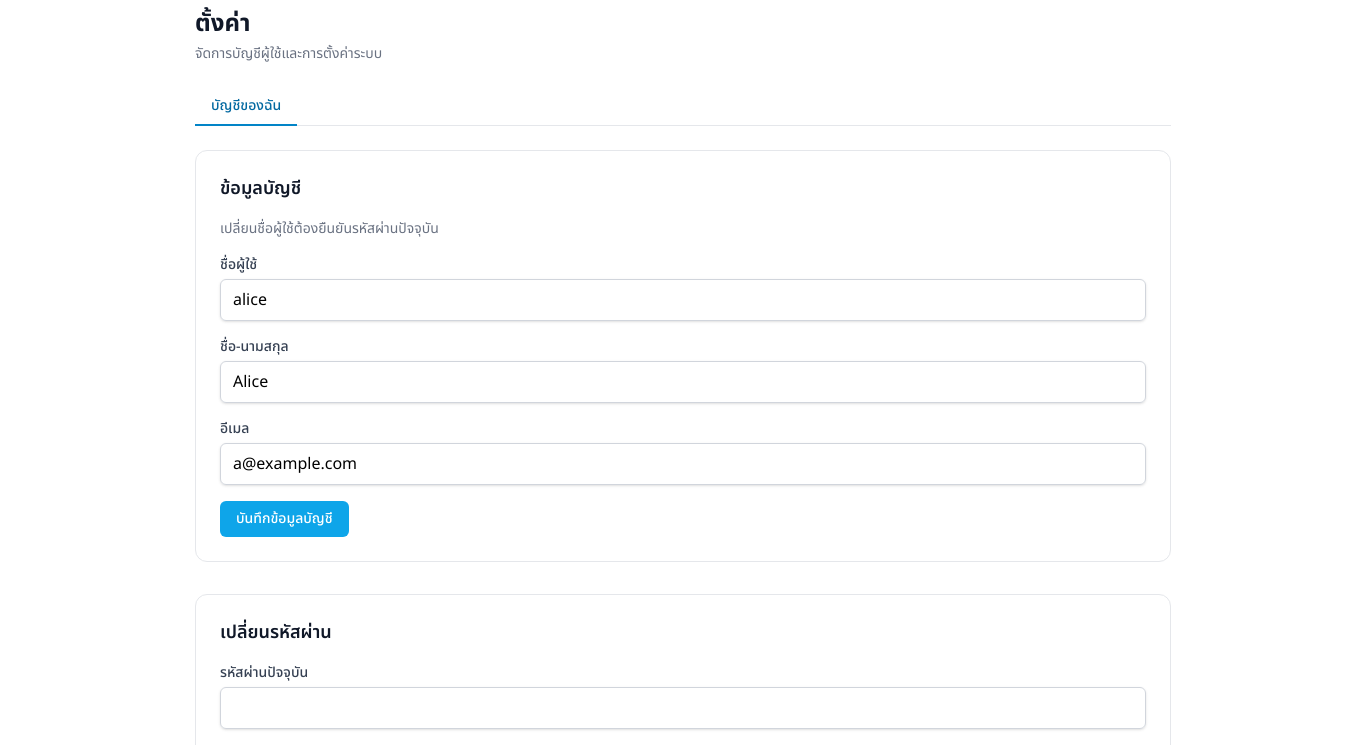
Test: SettingsPage › rejects policy-invalid new password with the backend message before the API
Type "temporary-password" into the password field with id "settings-current-password" at (683, 708), box 220,687 -> 1146,729
(page scrolled)
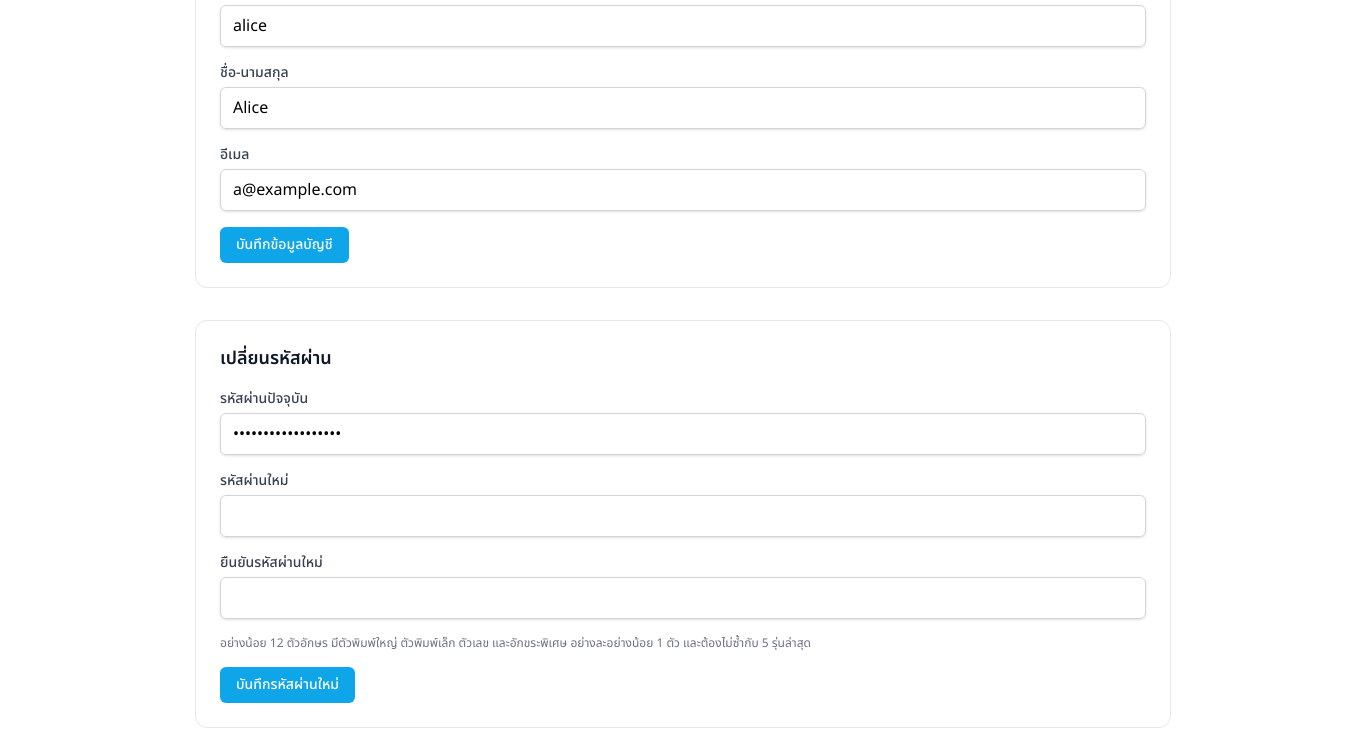
ครบ length/case/digit แต่ไม่มีอักขระพิเศษ → missing_special
Type "Abcdefghij12" into the password field with id "settings-new-password" at (683, 516), box 220,495 -> 1146,537
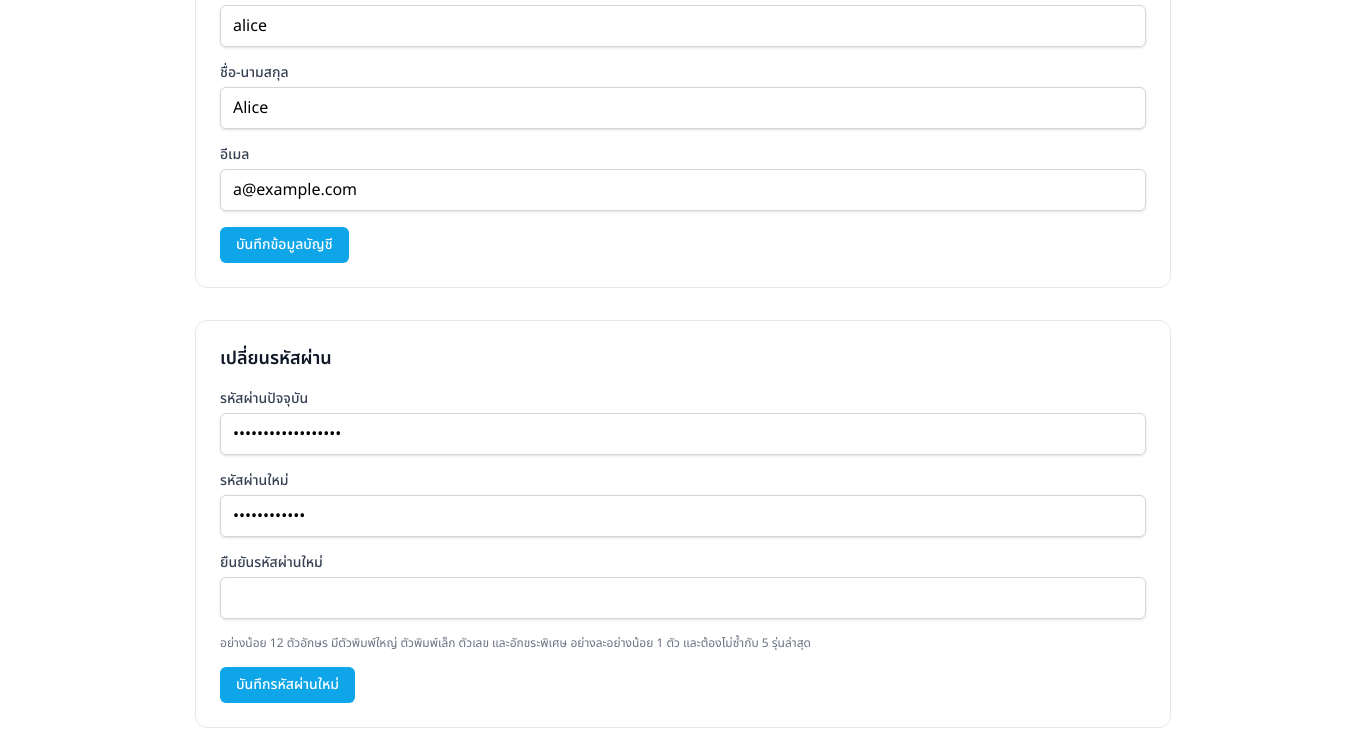
Type "Abcdefghij12" into the password field with id "settings-confirm-password" at (683, 598), box 220,577 -> 1146,619
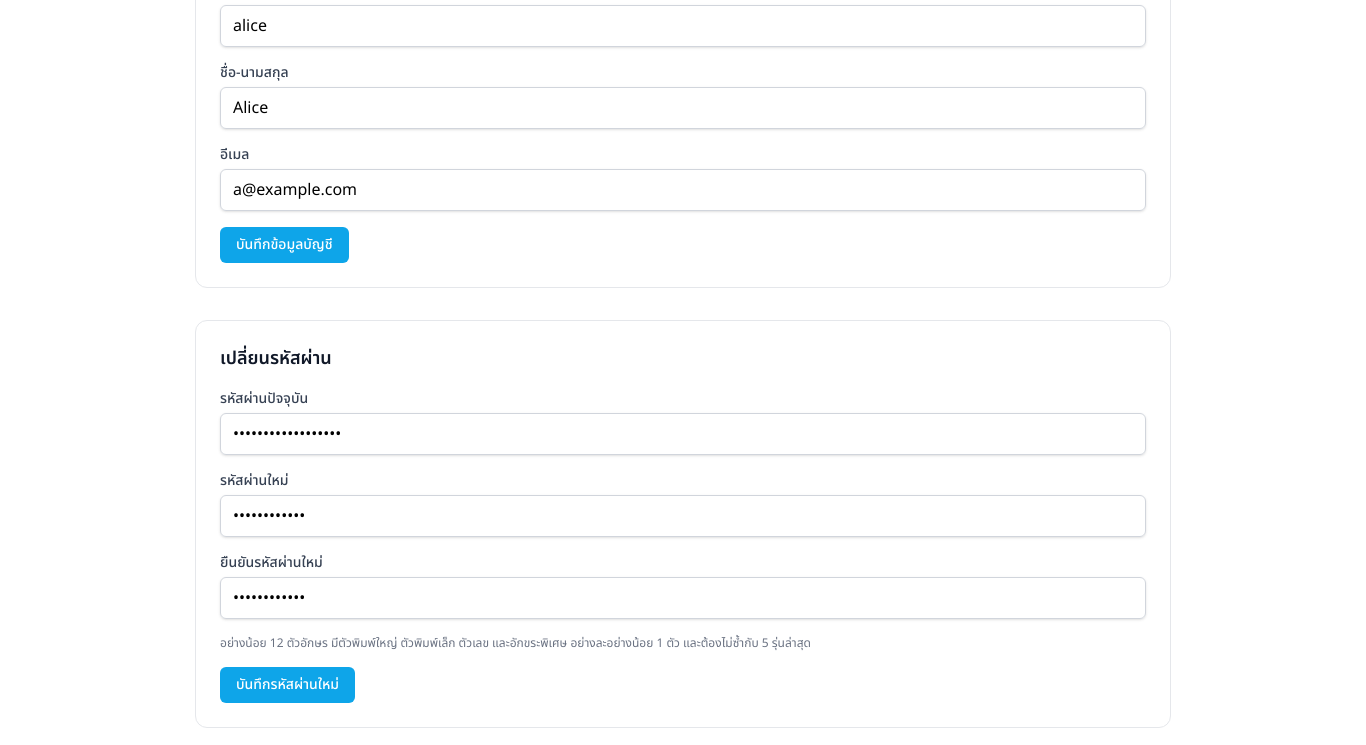
Submit the form that starts with "เปลี่ยนรหัสผ่าน", box 195,320 -> 1171,728
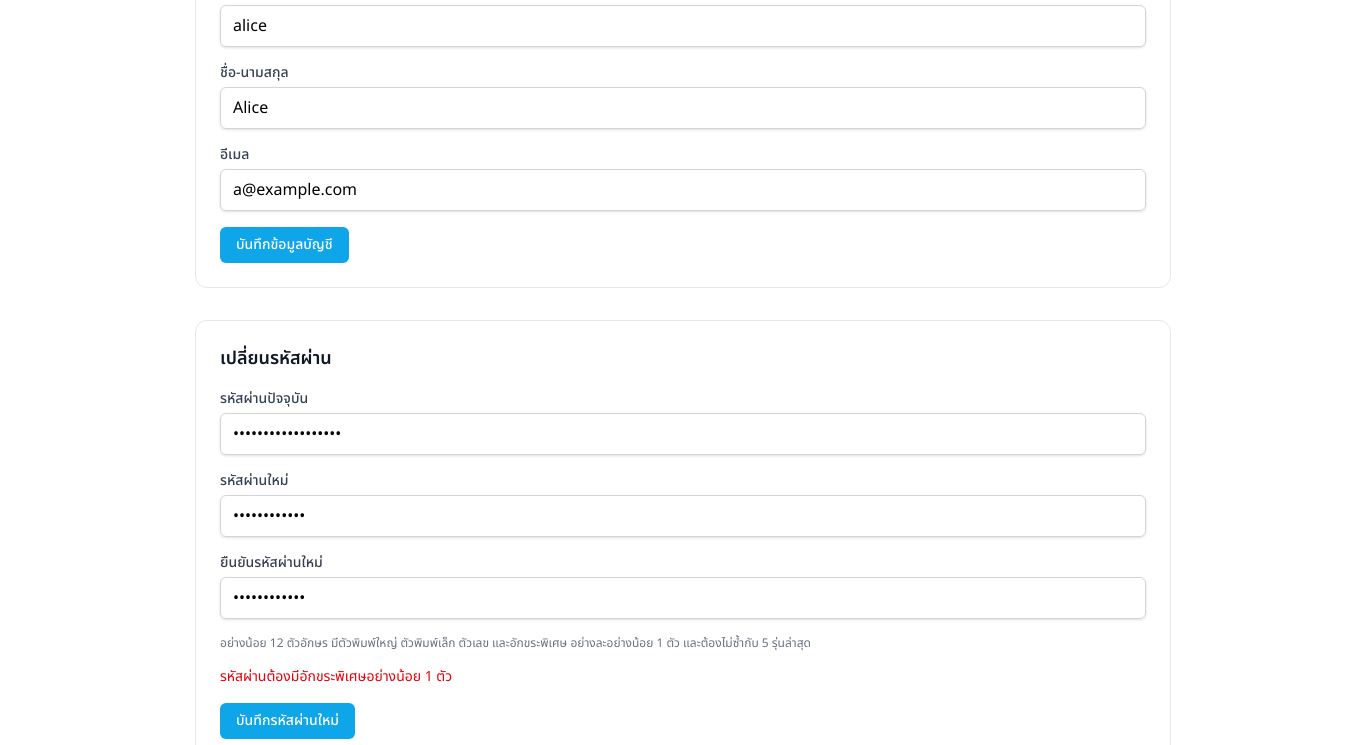
Now the message "รหัสผ่านต้องมีอักขระพิเศษอย่างน้อย 1 ตัว" is shown, box 220,666 -> 452,687
